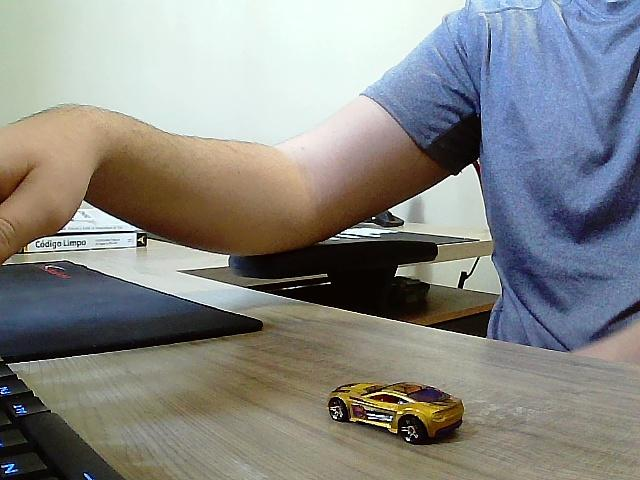Carro: (326, 384, 465, 445)
